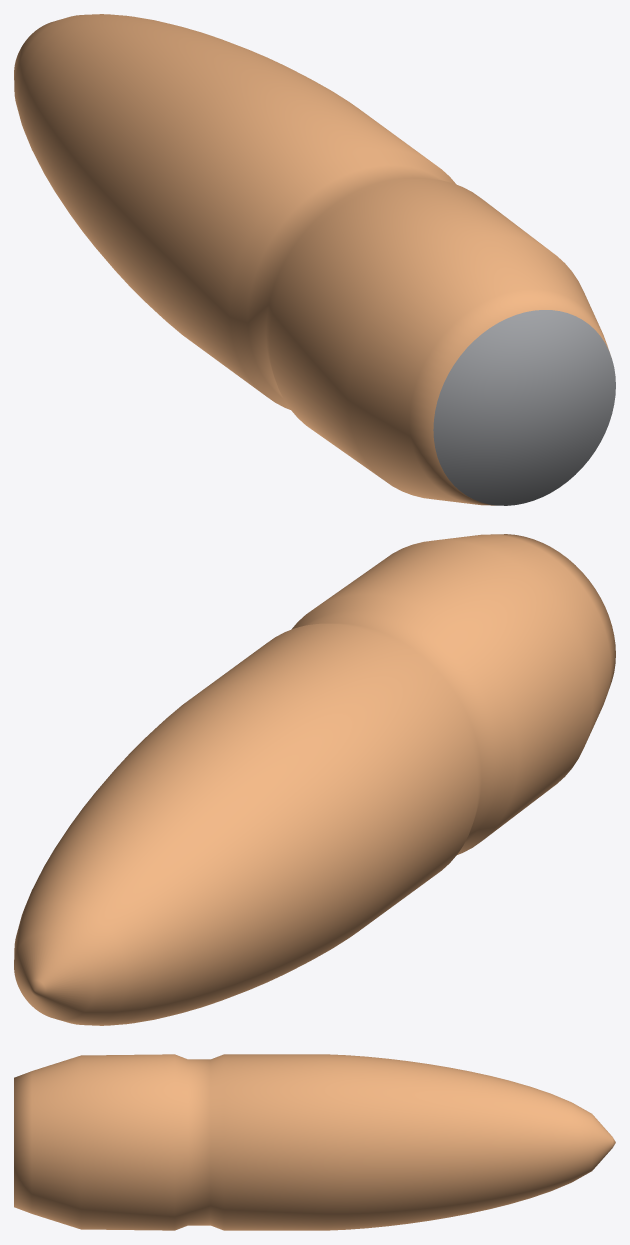
The model's file is bullet_fmj.glb.
The picture shows the model from 3 angles, top to bottom: view 1: azimuth 30°, elevation 25°; view 2: azimuth 150°, elevation 25°; view 3: azimuth 270°, elevation 25°; orthographic projection. The views are drawn at different scales.
Visible parts, largest first — view 1: bala_fmj; view 2: bala_fmj; view 3: bala_fmj.
Part boxes in pixels (left/top/right/bottom): bala_fmj: left=14, top=14, right=615, bottom=505; bala_fmj: left=14, top=534, right=615, bottom=1025; bala_fmj: left=14, top=1054, right=615, bottom=1230.
Bounding box in the file's own units: 0.0079 × 0.0079 × 0.0269.
